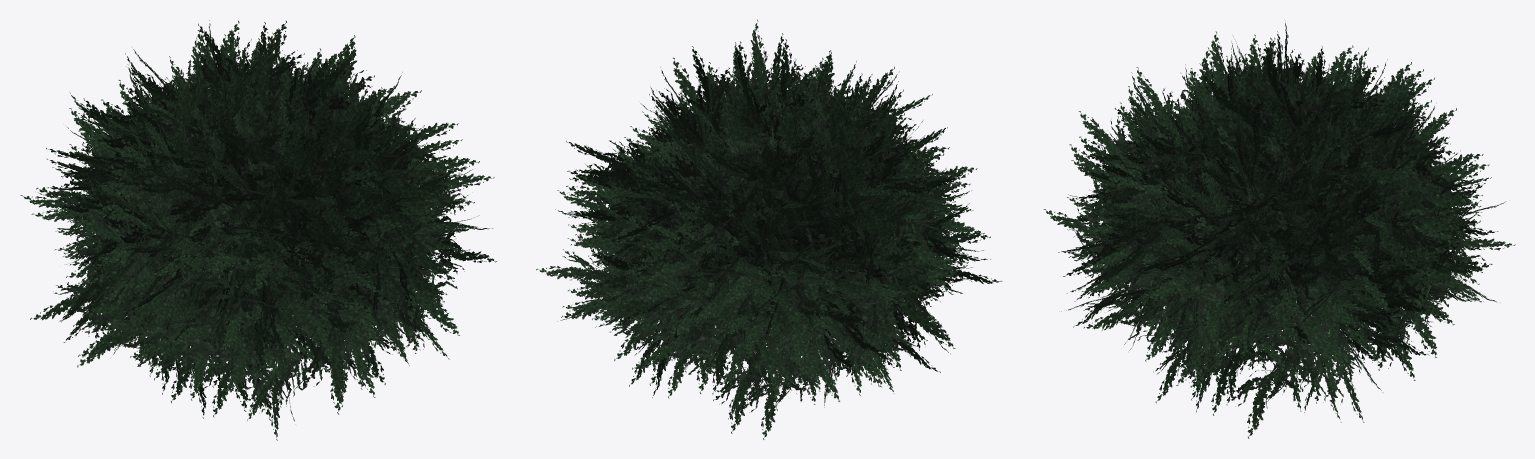
The model's file is bush.fbx.
The picture shows the model from 3 angles, left to right: view 1: azimuth 30°, elevation 25°; view 2: azimuth 150°, elevation 25°; view 3: azimuth 270°, elevation 25°; orthographic projection. The views are drawn at different scales.
Parts seen in each view (by area): view 1: branch.058; view 2: branch.058; view 3: branch.058.
Part boxes in pixels (bbox=[...]): branch.058: bbox=[20, 20, 496, 440]; branch.058: bbox=[536, 19, 1002, 439]; branch.058: bbox=[1043, 23, 1515, 438].
Size of the model in its own units: 287 by 254 by 304.
1 material, 1 textured.
